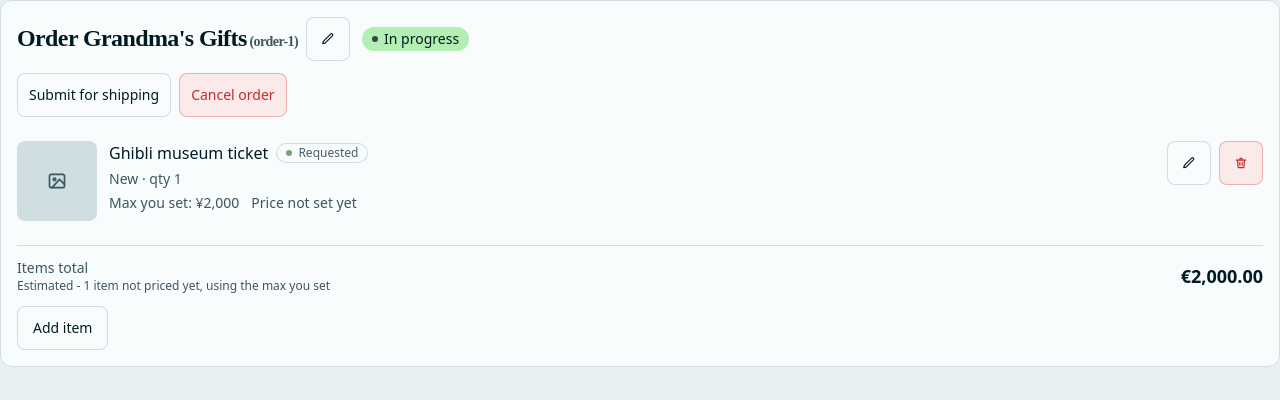
OrderDetailPage › cancel reverts to the last-saved nickname without saving
Click the button named "Rename": (328, 39) [306,17,350,61]
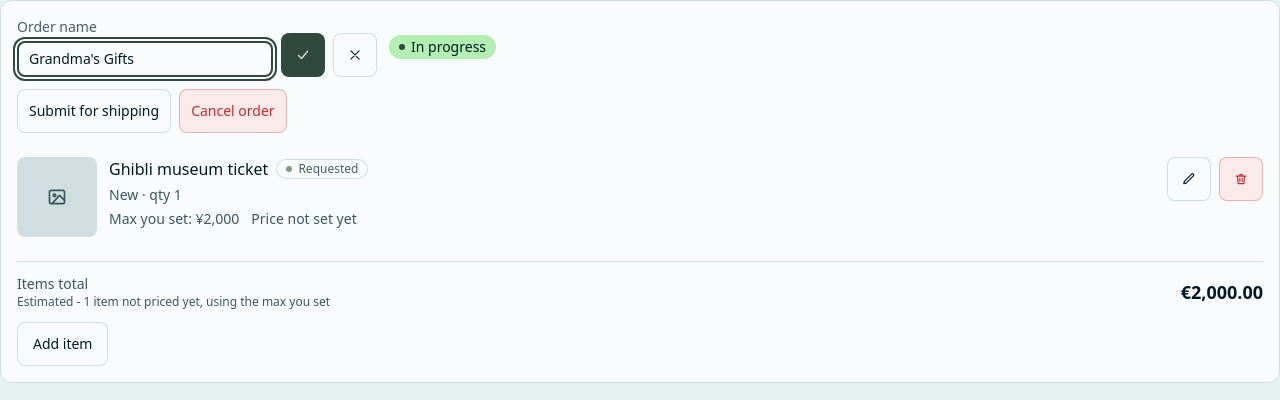
In the field labelled "Order name": (145, 59) [17,41,273,77], type " extra text"
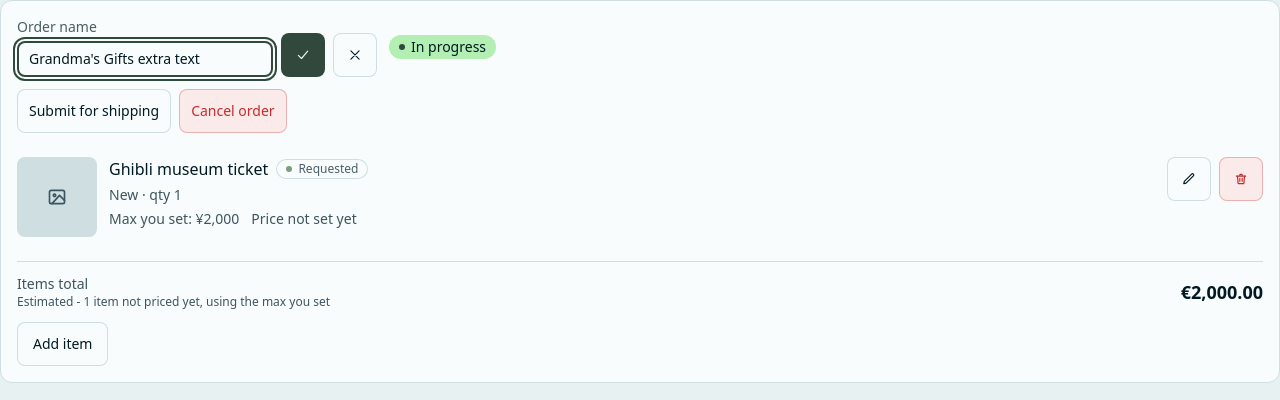
Click the button named "Cancel": (355, 55) [333,33,377,77]
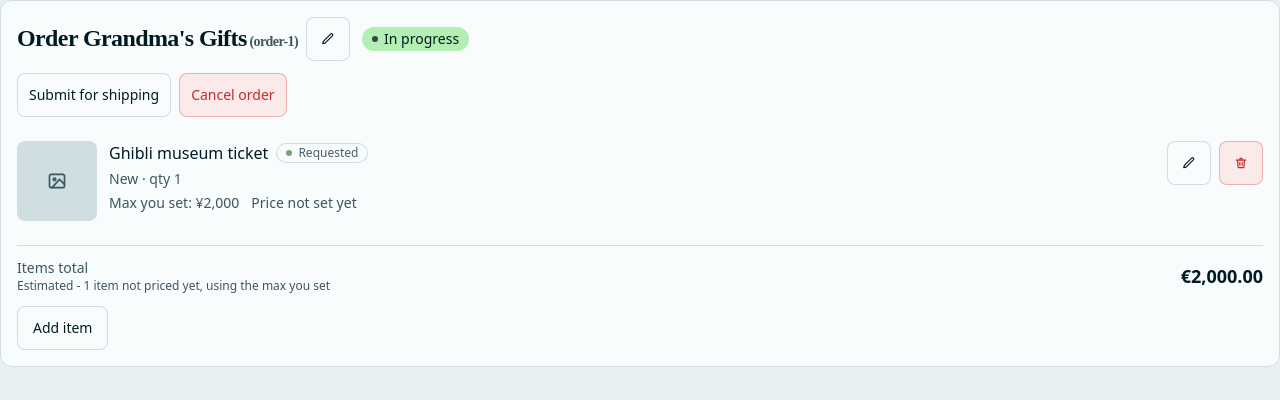
expect the heading "Order Grandma's Gifts (order-1)" is shown: met, box [17,22,298,54]
expect the text labelled "Order name" is gone: met
